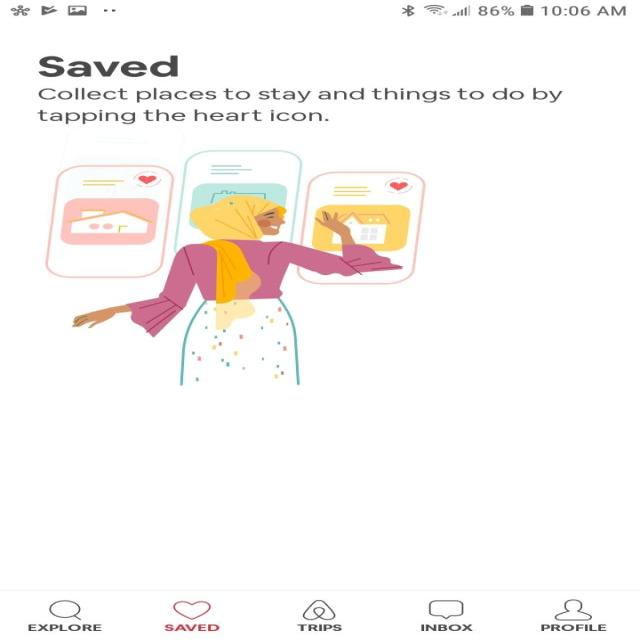Icon: (553, 598, 592, 620), (172, 600, 210, 619), (48, 599, 82, 620), (428, 600, 463, 620)
Image: (43, 150, 426, 386), (302, 599, 336, 620)
Text: (36, 88, 562, 124), (38, 55, 179, 78), (28, 624, 102, 632), (540, 624, 606, 632), (163, 624, 220, 632), (420, 624, 472, 632), (296, 624, 342, 632)
